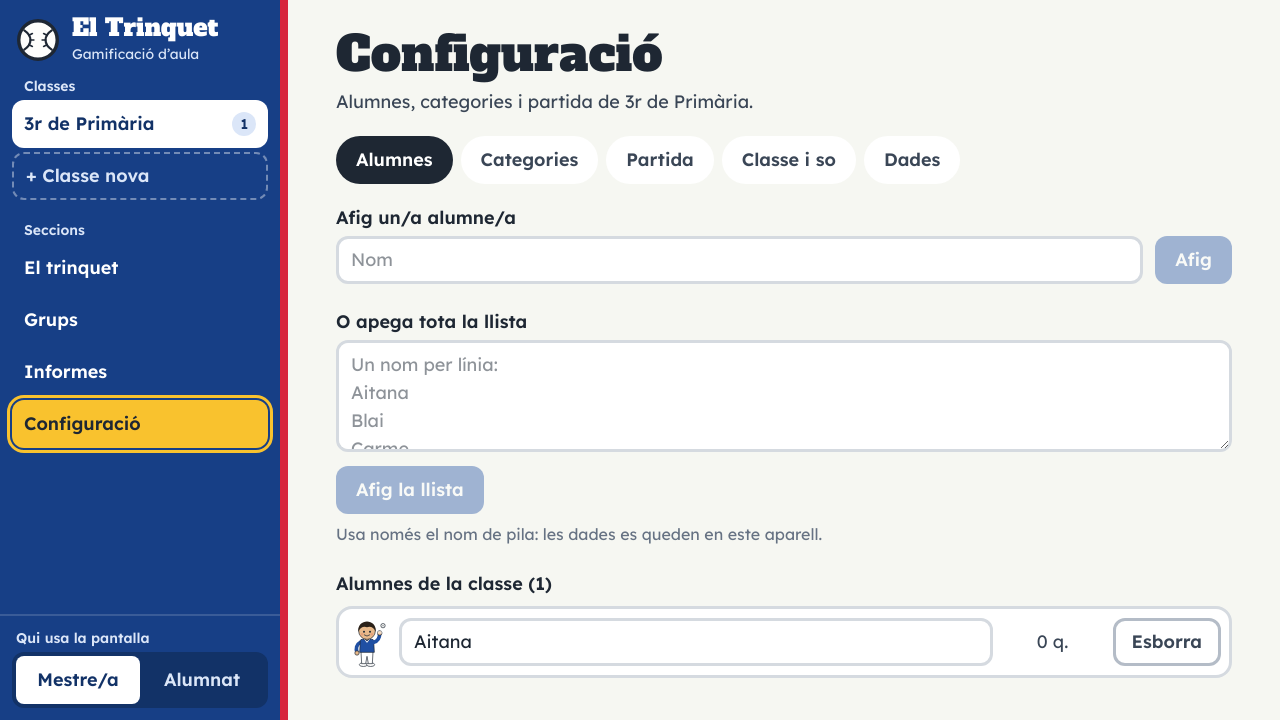
Test case: pantalla del mestre/a › a Configuració es poden afegir propostes del trinquet i posar −2 a una de millora
The width and height of the screenshot is (1280, 720).
Earlier steps of the test are not shown.
Later steps or results of the test are not shown.
Click the tab "Categories" at (529, 160), box [461,136,598,184]
(page scrolled)
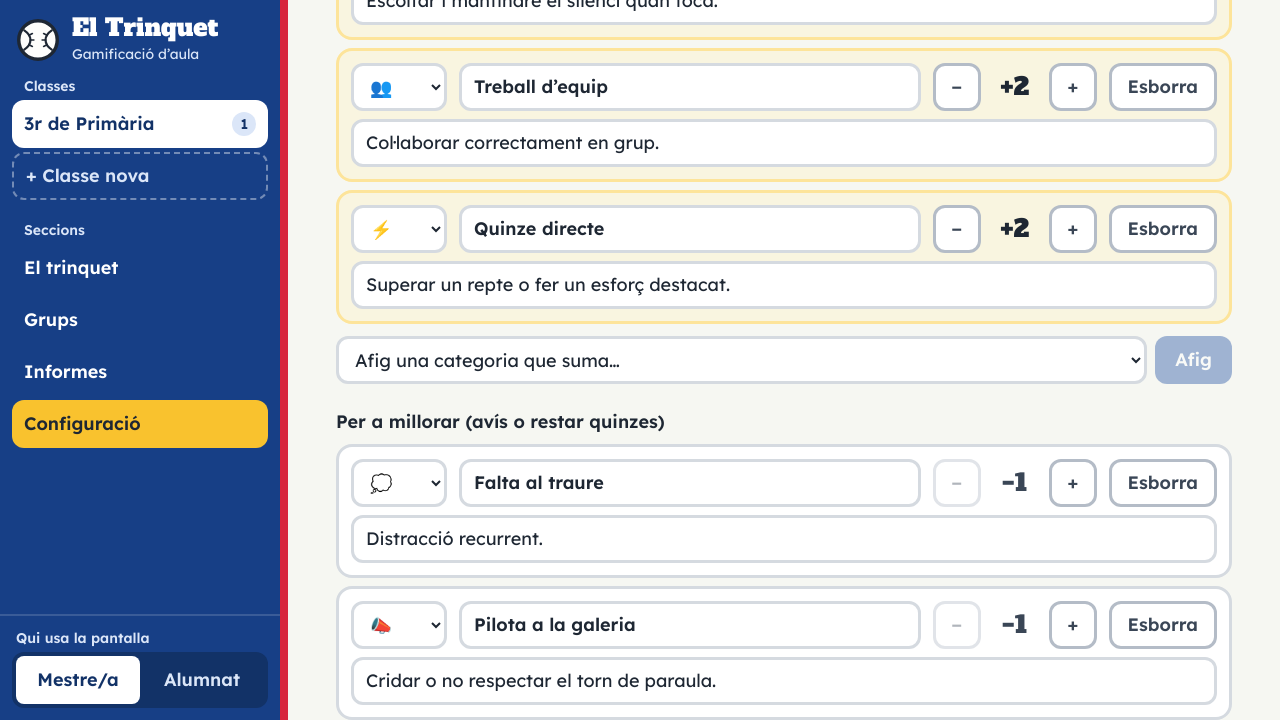
Select "💪 Rest de ferro (+2): Mantindre l’esforç tota la sessió sense rendir-se." in the dropdown named "Afig una categoria que suma" at (742, 360), box [336,336,1147,384]
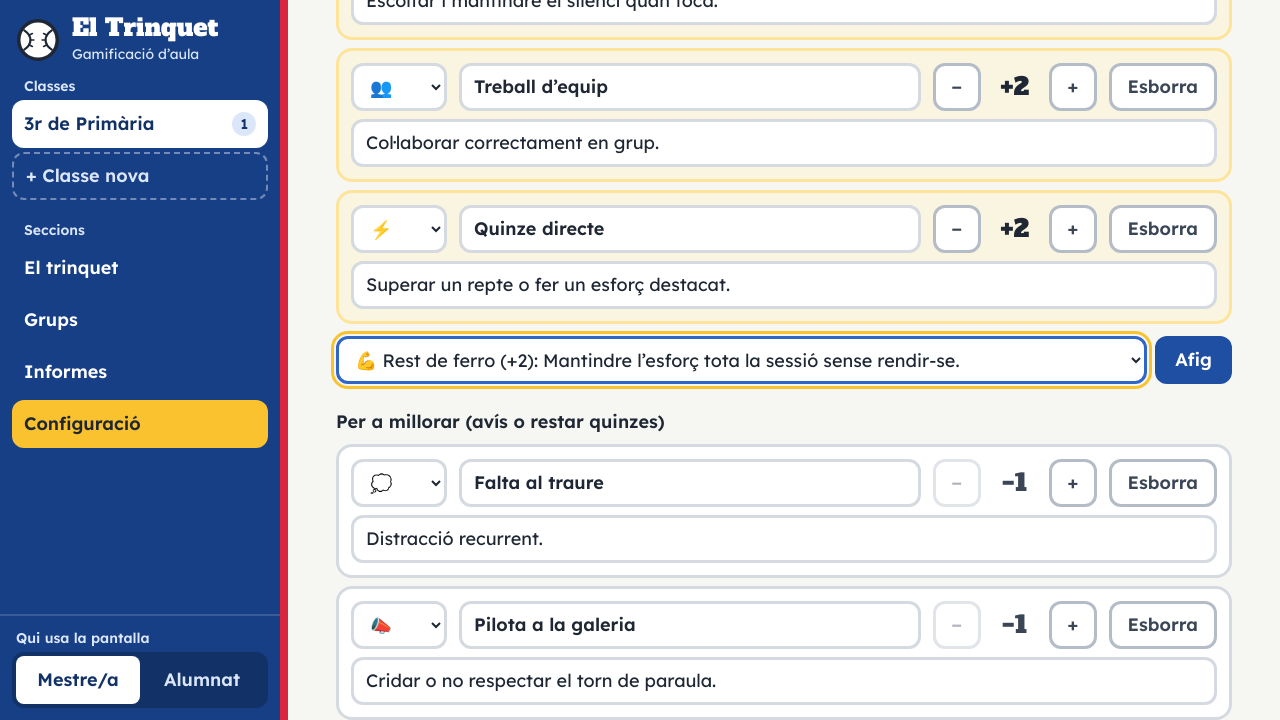
Click the button "Afig" at (1194, 360), box [1155,336,1232,384]
(page scrolled)
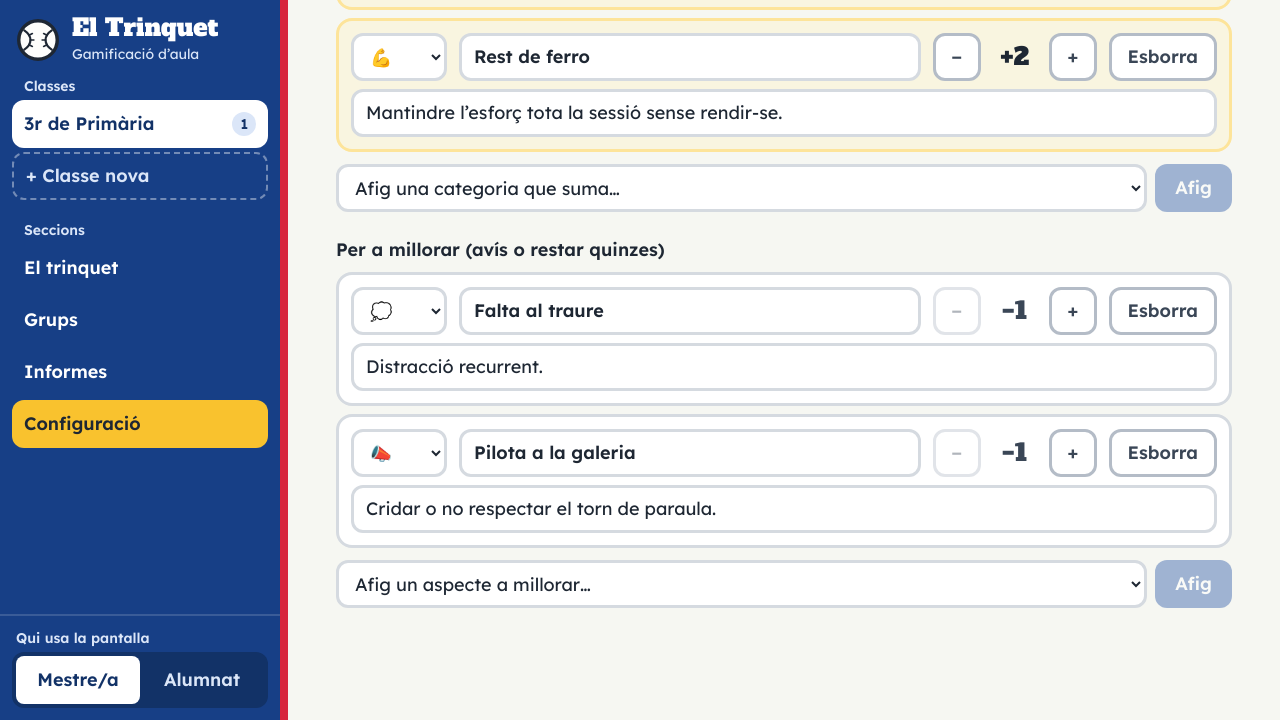
Select "🧤 Sense didals (−1): Oblidar el material o l’agenda." in the dropdown named "Afig un aspecte a millorar" at (742, 584), box [336,560,1147,608]
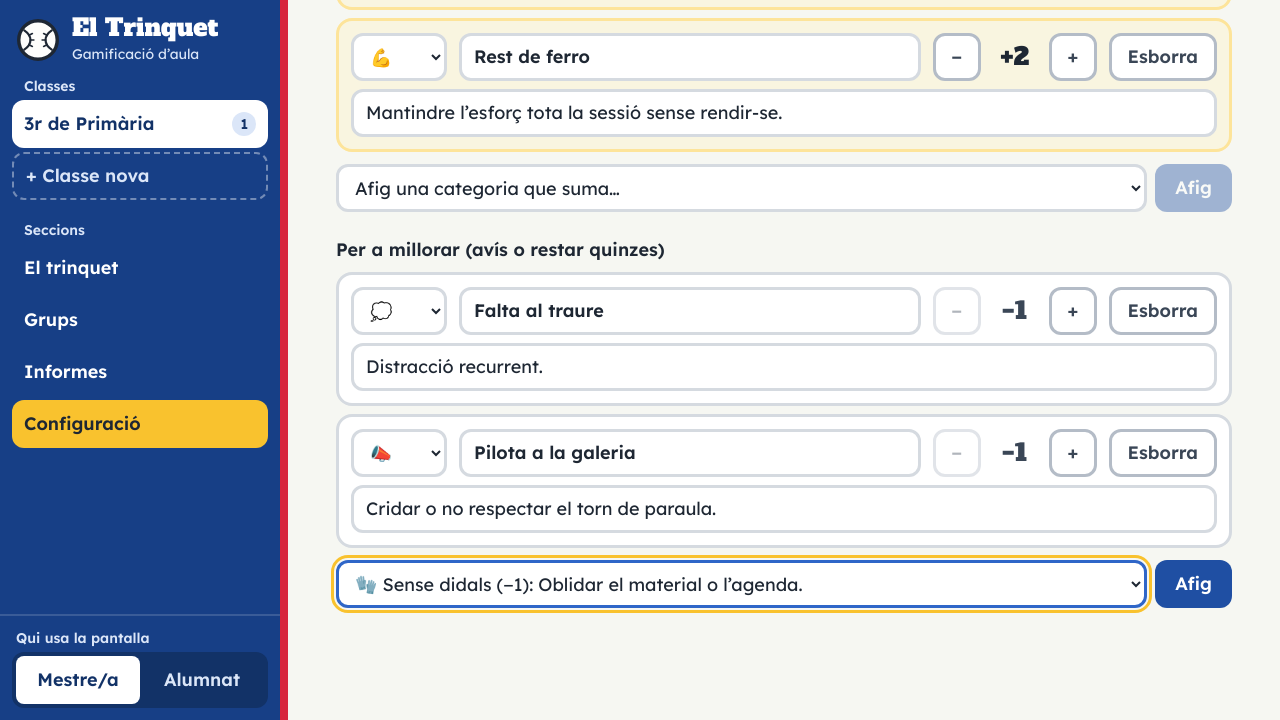
Click the 2nd button "Afig" at (1194, 584), box [1155,560,1232,608]
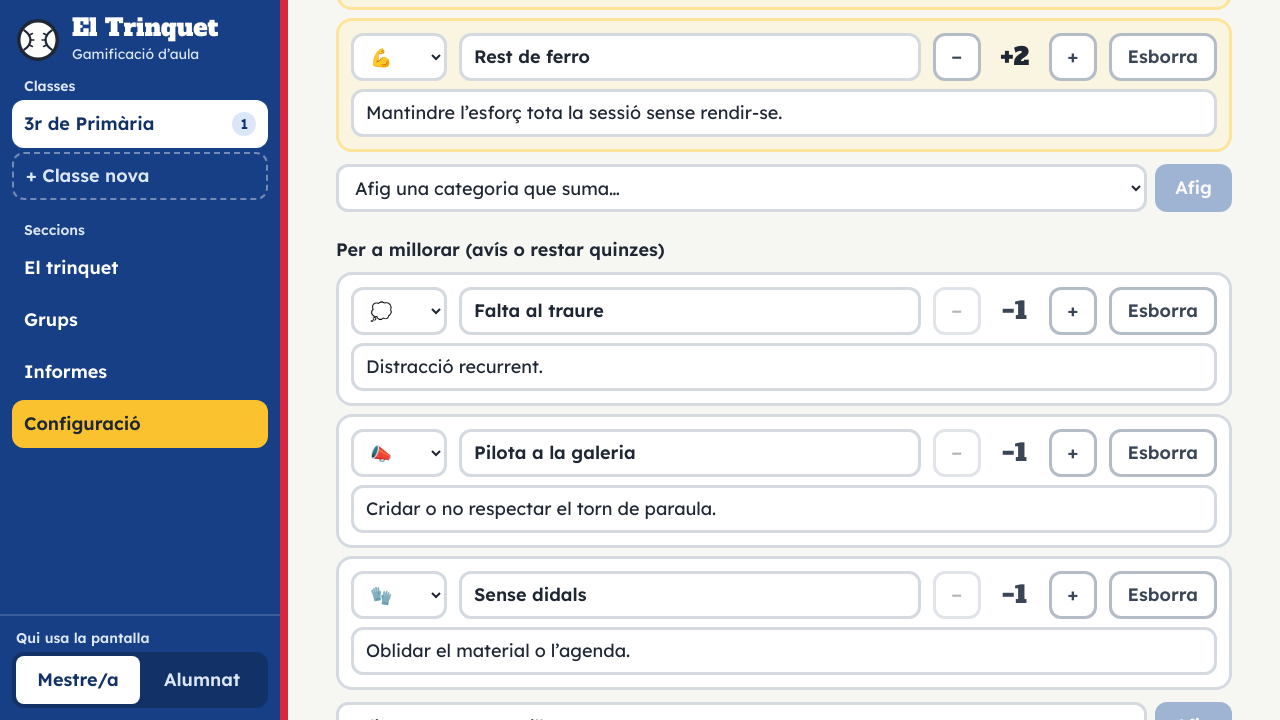
Click the button named "Més quinzes" at (1073, 453), box [1049,429,1097,477]
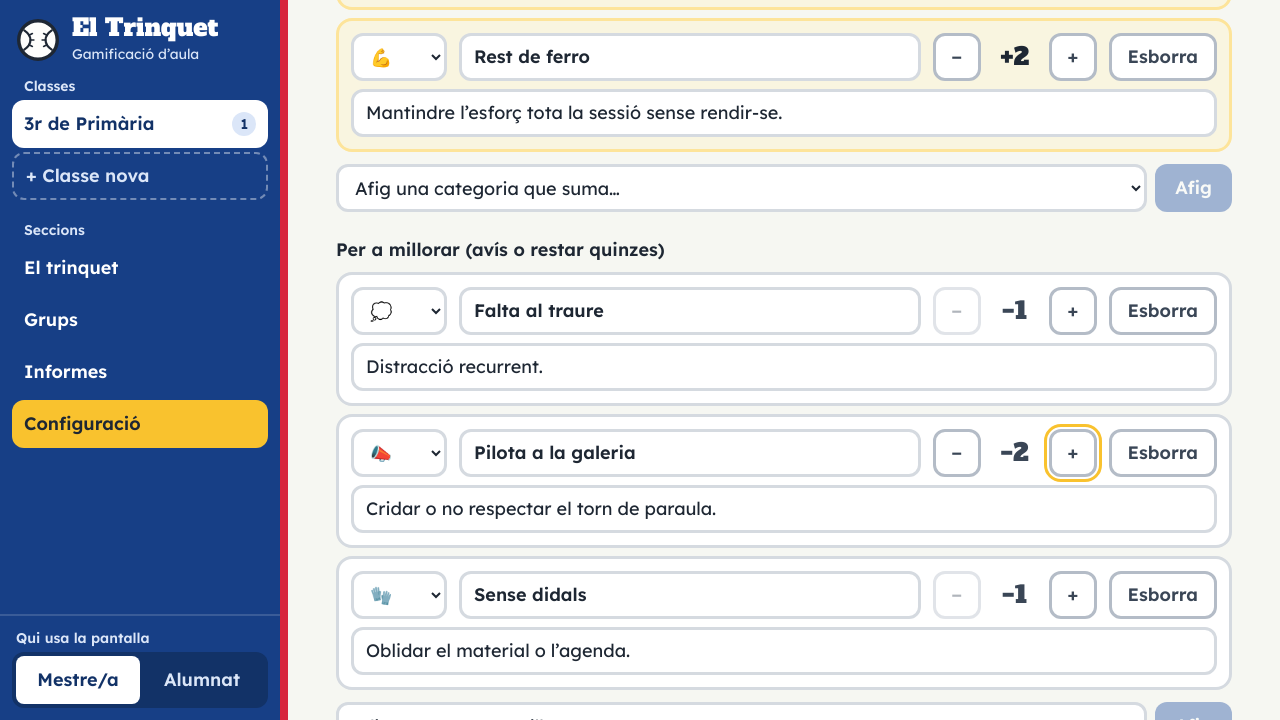
Expected: the text "−2" is shown, [1000,436,1029,469]
